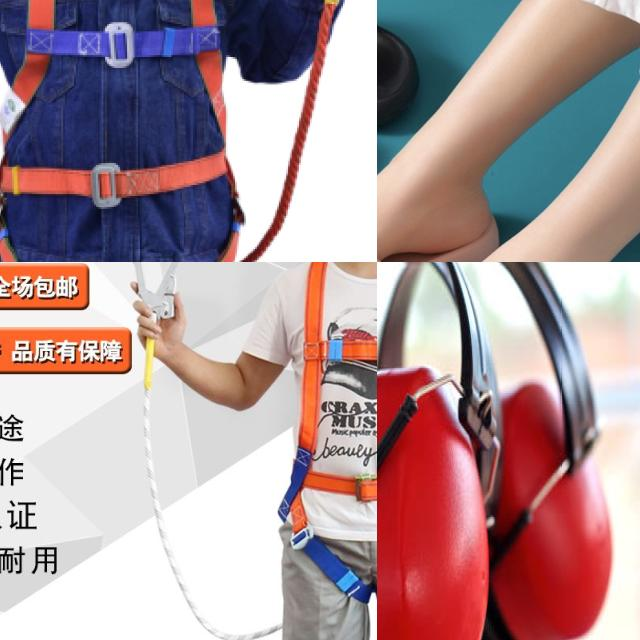Ear-protection: (391, 262, 635, 640), (377, 262, 503, 640)
Harness: (0, 0, 238, 262), (278, 262, 377, 608), (128, 262, 191, 342)
Sandals: (377, 152, 640, 262)
